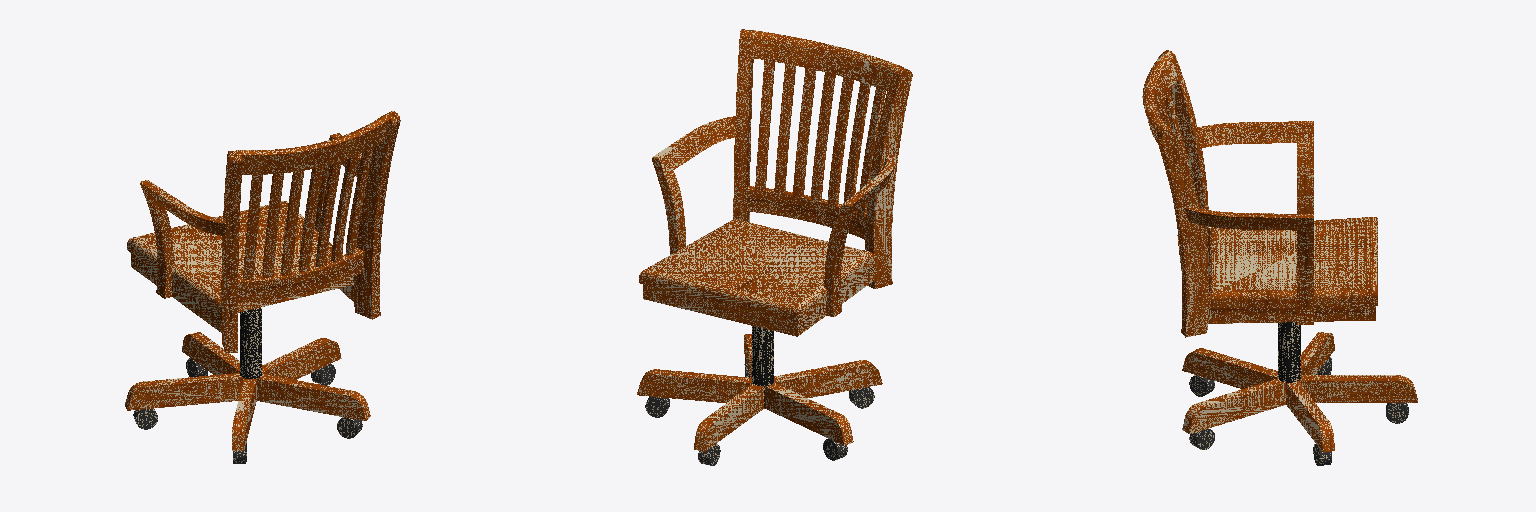
3 views of the same model, side by side, from view 1: azimuth 30°, elevation 25°; view 2: azimuth 150°, elevation 25°; view 3: azimuth 270°, elevation 25° (orthographic).
Visible parts, largest first — view 1: mesh3_mesh3-geometry, mesh1_mesh1-geometry, mesh16_mesh16-geometry, mesh15_mesh15-geometry, mesh9_mesh9-geometry, mesh20_mesh20-geometry, mesh10_mesh10-geometry, mesh4_mesh4-geometry, mesh14_mesh14-geometry, mesh5_mesh5-geometry, mesh13_mesh13-geometry, mesh11_mesh11-geometry; view 2: mesh16_mesh16-geometry, mesh3_mesh3-geometry, mesh1_mesh1-geometry, mesh20_mesh20-geometry, mesh9_mesh9-geometry, mesh15_mesh15-geometry, mesh10_mesh10-geometry, mesh19_mesh19-geometry, mesh8_mesh8-geometry, mesh4_mesh4-geometry, mesh14_mesh14-geometry, mesh2_mesh2-geometry (+3 smaller); view 3: mesh16_mesh16-geometry, mesh3_mesh3-geometry, mesh15_mesh15-geometry, mesh13_mesh13-geometry, mesh6_mesh6-geometry, mesh20_mesh20-geometry, mesh8_mesh8-geometry, mesh4_mesh4-geometry, mesh9_mesh9-geometry, mesh2_mesh2-geometry, mesh5_mesh5-geometry, mesh14_mesh14-geometry (+1 smaller).
Part boxes in pixels (x1,y1,x2,y2): mesh3_mesh3-geometry: (125, 332, 370, 450); mesh1_mesh1-geometry: (243, 147, 373, 279); mesh16_mesh16-geometry: (127, 201, 353, 316); mesh15_mesh15-geometry: (353, 111, 400, 319); mesh9_mesh9-geometry: (241, 115, 389, 174); mesh20_mesh20-geometry: (221, 150, 242, 352); mesh10_mesh10-geometry: (238, 248, 364, 302); mesh4_mesh4-geometry: (133, 358, 362, 463); mesh14_mesh14-geometry: (145, 196, 173, 298); mesh5_mesh5-geometry: (240, 308, 261, 378); mesh13_mesh13-geometry: (140, 180, 225, 235); mesh11_mesh11-geometry: (131, 253, 221, 332); mesh16_mesh16-geometry: (639, 219, 873, 321); mesh3_mesh3-geometry: (637, 334, 882, 451); mesh1_mesh1-geometry: (755, 60, 885, 215); mesh20_mesh20-geometry: (865, 66, 912, 288); mesh9_mesh9-geometry: (749, 30, 899, 91); mesh15_mesh15-geometry: (733, 29, 753, 221); mesh10_mesh10-geometry: (746, 186, 865, 239); mesh19_mesh19-geometry: (643, 284, 797, 336); mesh8_mesh8-geometry: (652, 116, 734, 175); mesh4_mesh4-geometry: (645, 358, 874, 465); mesh14_mesh14-geometry: (824, 214, 853, 316); mesh2_mesh2-geometry: (657, 171, 685, 254); mesh16_mesh16-geometry: (1208, 217, 1377, 307); mesh3_mesh3-geometry: (1182, 332, 1417, 452); mesh15_mesh15-geometry: (1157, 126, 1208, 337); mesh13_mesh13-geometry: (1198, 121, 1313, 147); mesh6_mesh6-geometry: (1208, 306, 1375, 323); mesh20_mesh20-geometry: (1158, 50, 1208, 243); mesh8_mesh8-geometry: (1184, 206, 1313, 230); mesh4_mesh4-geometry: (1189, 357, 1408, 465); mesh9_mesh9-geometry: (1142, 56, 1177, 144); mesh2_mesh2-geometry: (1297, 231, 1313, 324); mesh5_mesh5-geometry: (1278, 322, 1300, 382); mesh14_mesh14-geometry: (1297, 143, 1313, 213).
Size of the model in its own units: 0.4766 by 0.7016 by 0.5297.
5 materials, 1 textured.